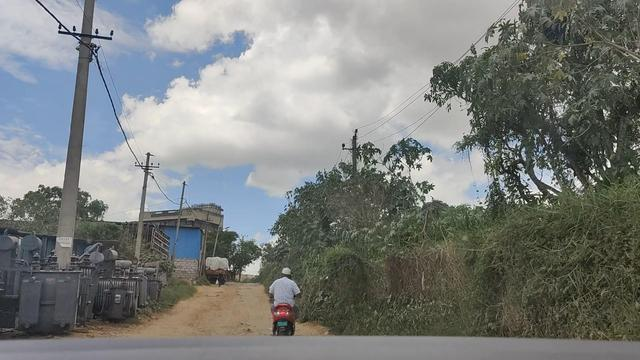HMV: (202, 254, 236, 294)
UnsurfacedRoad: (163, 302, 261, 338)
